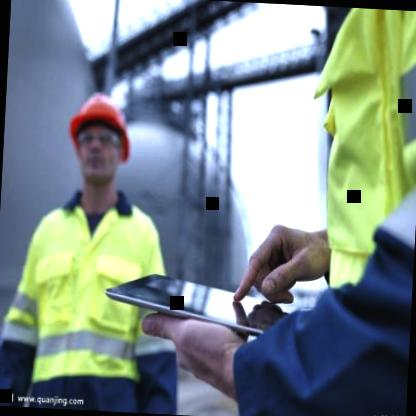helmet: (58, 76, 138, 204)
